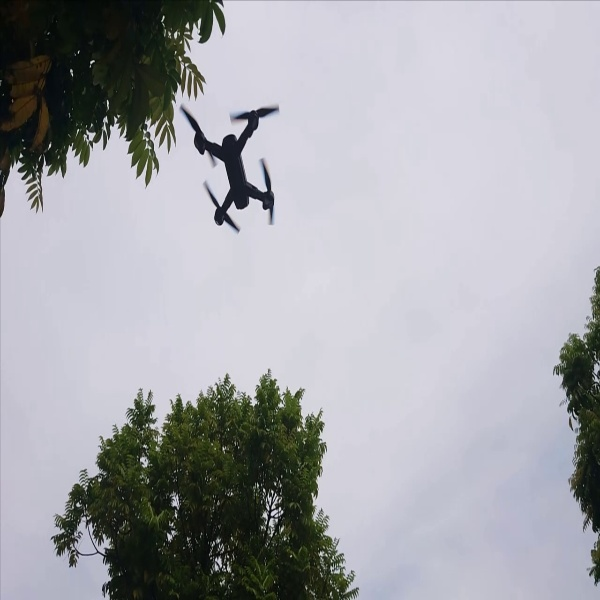drone: (173, 98, 295, 235)
